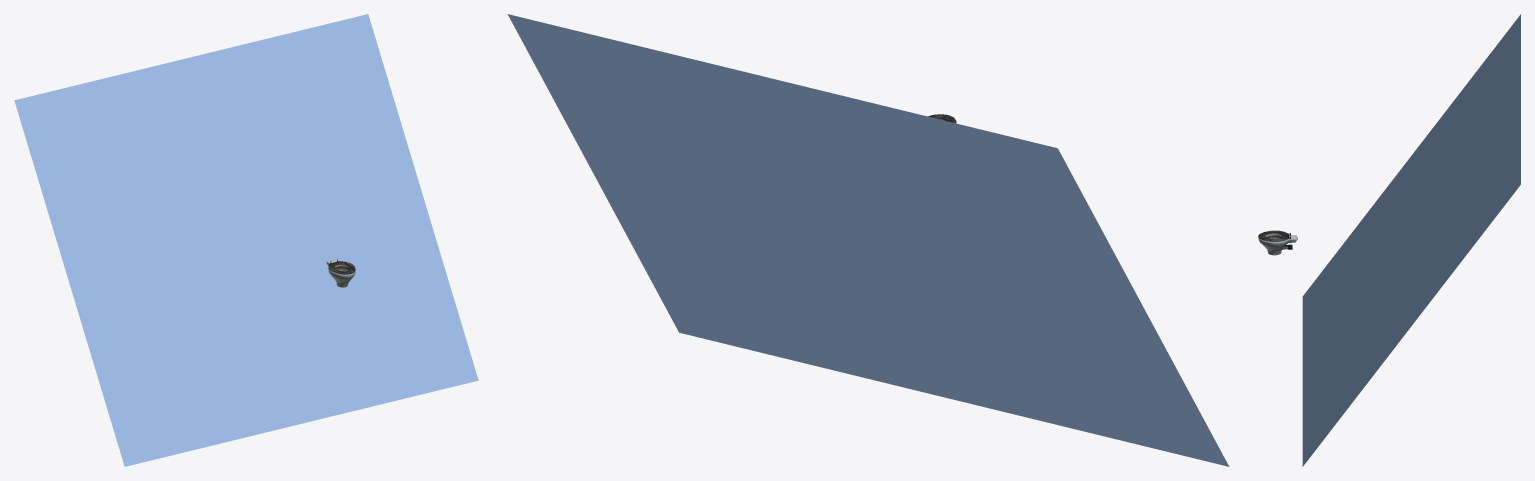
File: toilet.obj
3 views of the same model, side by side, from view 1: azimuth 30°, elevation 25°; view 2: azimuth 150°, elevation 25°; view 3: azimuth 270°, elevation 25° (orthographic). The views are drawn at different scales.
Parts seen in each view (by area): view 1: Plane001, FIT_Toilet_Toilet; view 2: Plane001; view 3: Plane001, FIT_Toilet_Toilet.
Part boxes in pixels (left/top/right/bottom): Plane001: left=14, top=14, right=478, bottom=466; FIT_Toilet_Toilet: left=326, top=259, right=355, bottom=287; Plane001: left=507, top=14, right=1229, bottom=466; Plane001: left=1302, top=14, right=1520, bottom=466; FIT_Toilet_Toilet: left=1258, top=230, right=1297, bottom=255.
Bounding box in the file's own units: 990 × 764 × 645.
